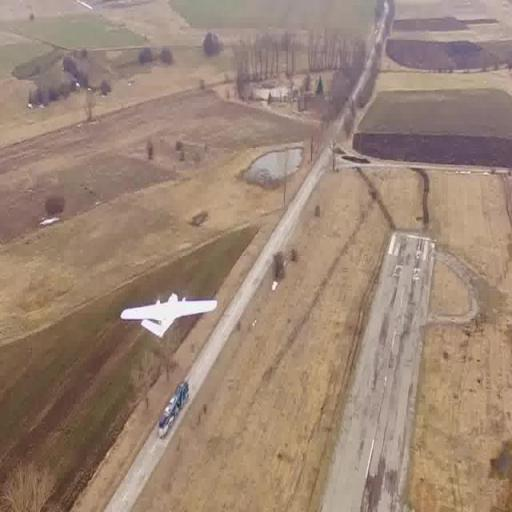uav: (114, 288, 222, 348)
